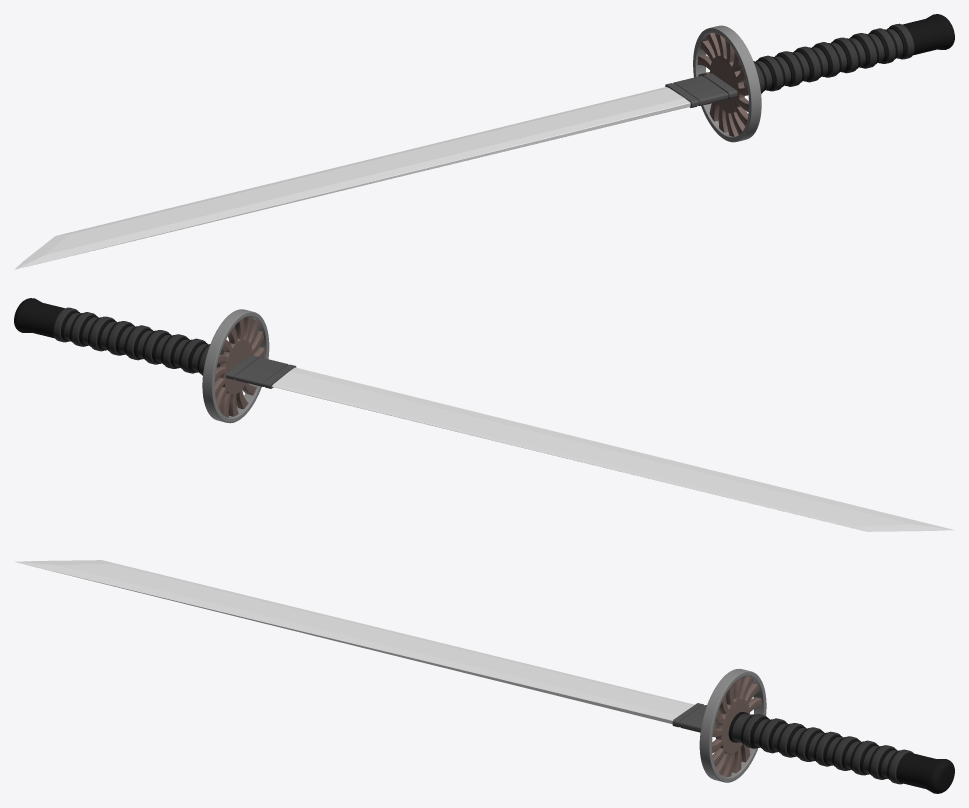
File: ninja_sword.glb
3 views of the same model, one above another, from view 1: azimuth 30°, elevation 25°; view 2: azimuth 150°, elevation 25°; view 3: azimuth 330°, elevation 25° (orthographic). The views are drawn at different scales.
Visible parts, largest first — view 1: Katana; view 2: Katana; view 3: Katana.
Boxes of the visible parts, <box> form: Katana: <box>14,14,954,269</box>; Katana: <box>14,298,953,531</box>; Katana: <box>15,560,954,793</box>.
Size of the model in its own units: 1.23 by 0.1321 by 0.1321.
